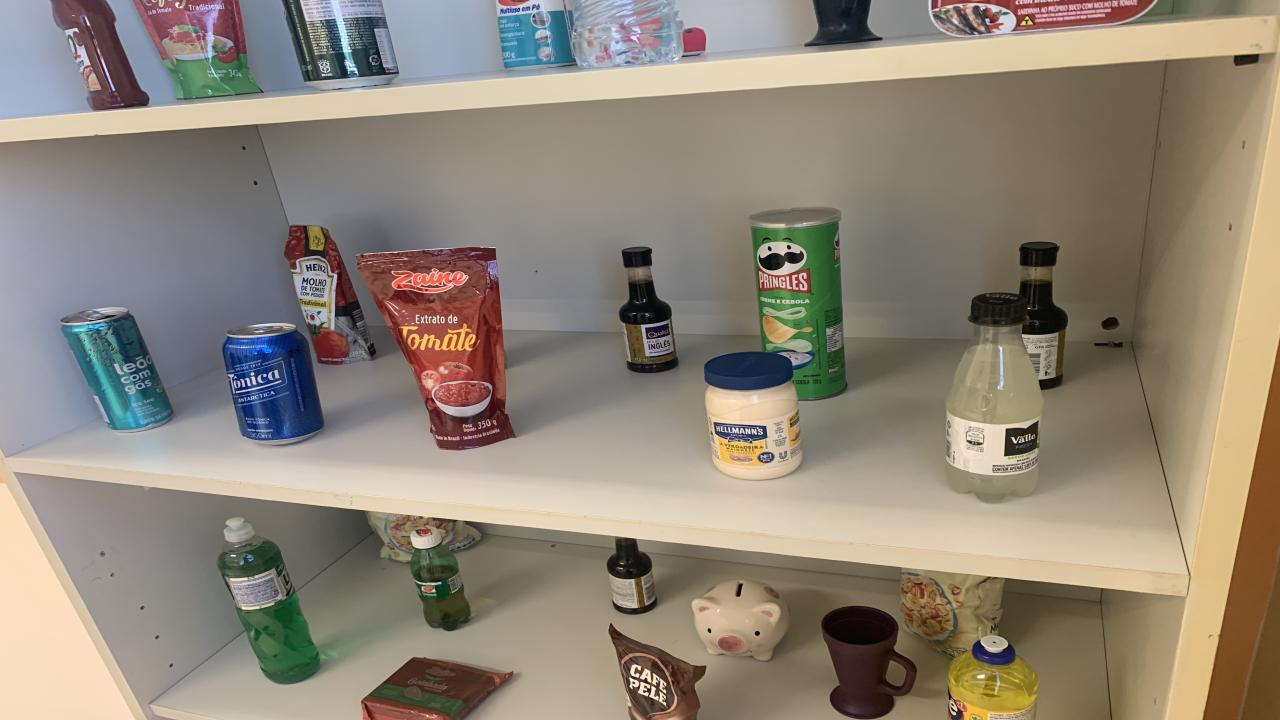Cleaner-Cleanup_Items: (495, 0, 575, 69)
Coffee-Pantry_Items: (610, 626, 705, 720)
Detergent-Cleanup_Items: (218, 518, 320, 684), (948, 636, 1038, 720)
English_Sauce-Pantry_Items: (620, 248, 678, 373), (1020, 242, 1068, 390), (608, 538, 658, 615)
Flakes-Snacks: (900, 568, 1005, 658), (365, 512, 482, 562)
Guarana-Drinks: (410, 527, 470, 630)
Guarana_Can-Drinks: (282, 0, 398, 90)
Guava-Snacks: (362, 656, 512, 720)
Ketchup-Pantry_Items: (50, 0, 150, 111)
Mayonnaise-Pantry_Items: (705, 352, 802, 480)
Pig_Safe-Miscellaneous: (692, 579, 790, 662)
Pringles-Snacks: (750, 206, 848, 399)
Soap-Cleanup_Items: (682, 28, 705, 56)
Soda-Drinks: (945, 292, 1042, 502)
Tea-Drinks: (60, 308, 172, 431)
Tomato_Sauce-Pantry_Items: (355, 248, 515, 450), (285, 225, 378, 364), (135, 0, 260, 99)
Tonic-Drinks: (222, 324, 325, 444)
Tuna_Can-Pantry_Items: (930, 0, 1158, 38)
Water_Bottle-Drinks: (572, 0, 682, 68)
